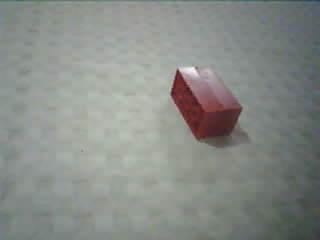lego: (169, 64, 243, 141)
